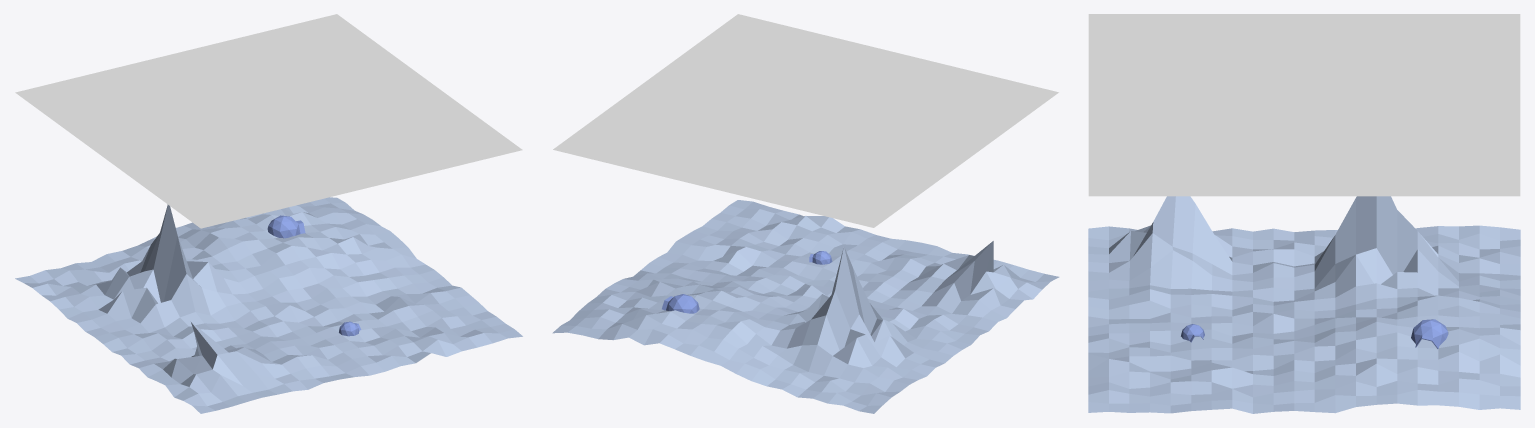
File: low-poly-ice-scene.glb
3 renders of one model, left to right at view 1: azimuth 30°, elevation 25°; view 2: azimuth 150°, elevation 25°; view 3: azimuth 270°, elevation 25°, orthographic. The views are drawn at different scales.
Parts seen in each view (by area): view 1: Plane, Plane.001, Icosphere.001; view 2: Plane.001, Plane, Icosphere.001; view 3: Plane, Plane.001, Icosphere.001.
Boxes of the visible parts, left/top/right/bottom form: Plane: left=15, top=197, right=522, bottom=413; Plane.001: left=15, top=14, right=522, bottom=228; Icosphere.001: left=267, top=215, right=305, bottom=238; Plane.001: left=553, top=14, right=1058, bottom=227; Plane: left=552, top=200, right=1059, bottom=413; Icosphere.001: left=662, top=294, right=699, bottom=313; Plane: left=1088, top=196, right=1520, bottom=413; Plane.001: left=1088, top=14, right=1520, bottom=196; Icosphere.001: left=1411, top=319, right=1448, bottom=348.
Bounding box in the file's own units: 58.8 × 32.79 × 58.8.
